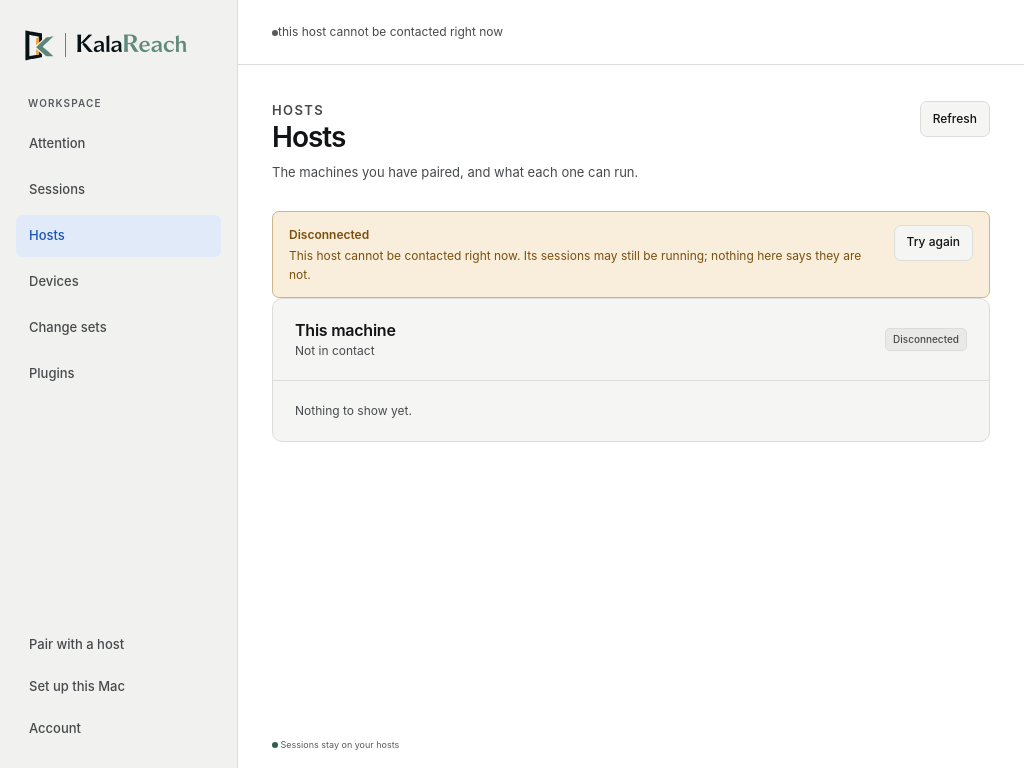
it: the hosts show their newest read › lets a refresh give way to a later one
Click the button "Refresh".
click(955, 119)  # box 920,101 -> 990,137
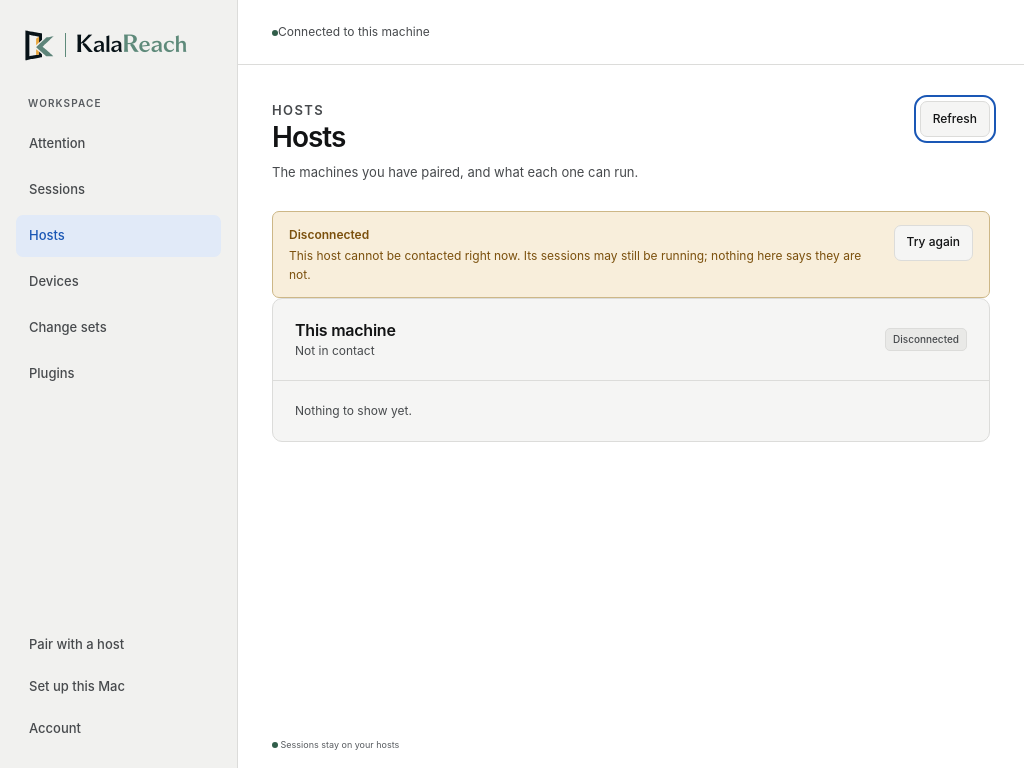
Click the button "Refresh".
click(955, 119)  # box 920,101 -> 990,137
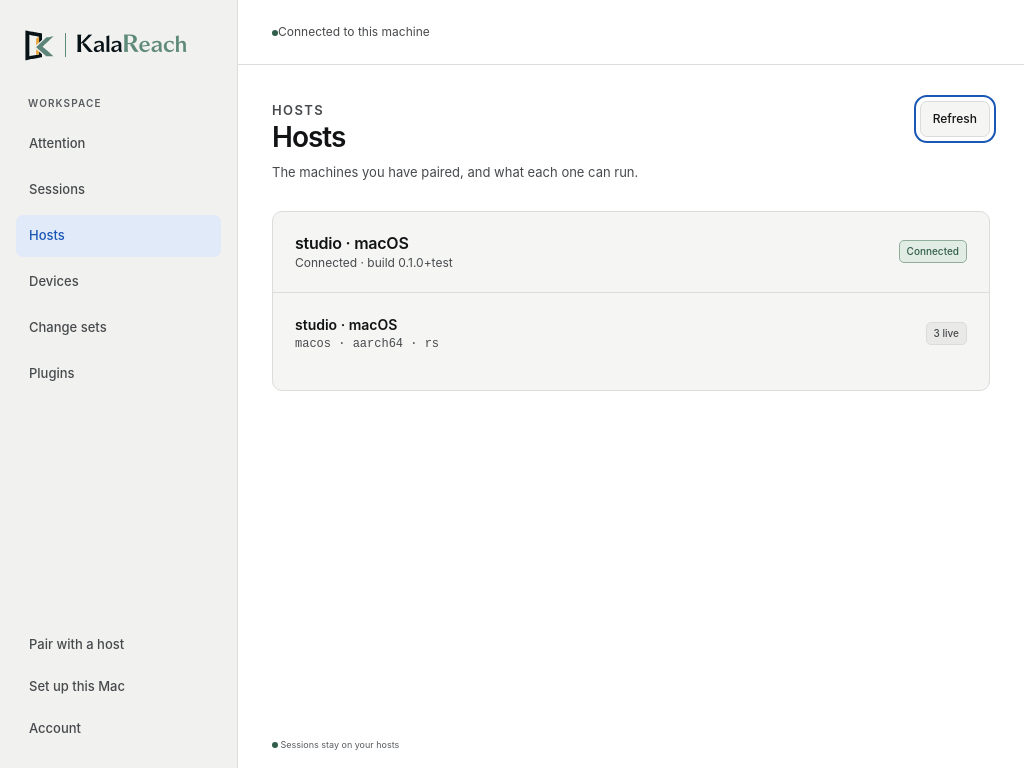
Now the heading "studio · macOS" is shown, box 295,233 -> 409,253
Now the text "Disconnected" is gone
